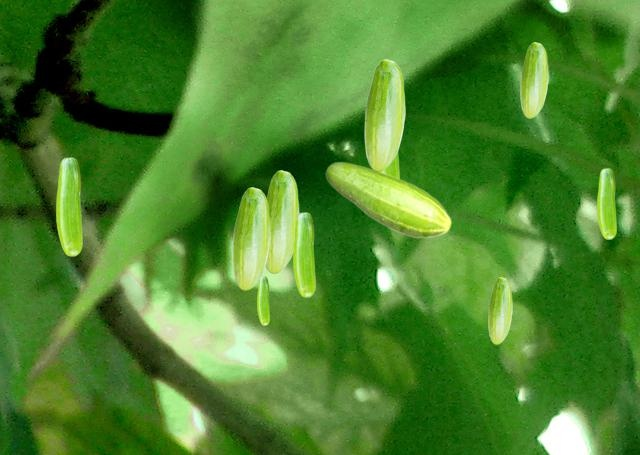cucumber: (325, 161, 451, 238), (364, 59, 404, 170), (232, 187, 269, 289), (266, 170, 298, 272), (56, 157, 81, 255), (520, 42, 547, 117), (293, 212, 314, 296), (488, 277, 511, 343), (597, 168, 615, 238), (257, 276, 268, 324), (381, 152, 398, 176)
